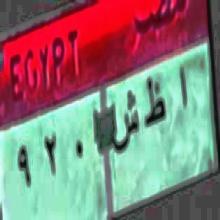0: (74, 130, 86, 166)
2: (43, 129, 60, 178)
9: (15, 138, 34, 190)
Thaa: (143, 68, 165, 136)
alif: (174, 60, 194, 114)
sheen: (113, 86, 141, 160)
